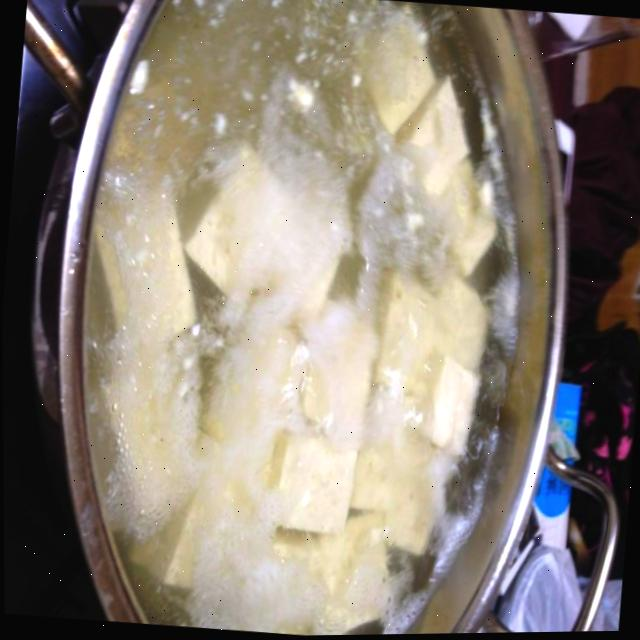豆腐料理: (32, 0, 594, 640)
